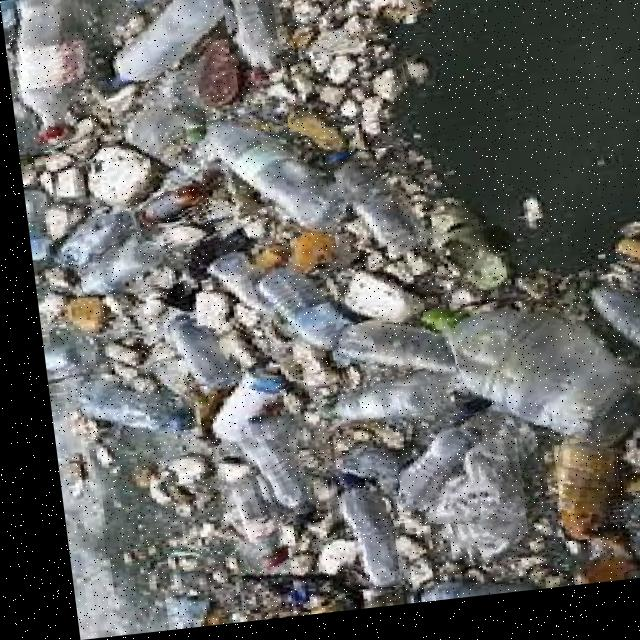plasticbottle: (415, 317, 640, 454), (202, 125, 343, 241), (0, 0, 105, 152), (100, 0, 224, 98), (379, 422, 474, 535), (445, 429, 512, 572), (558, 286, 640, 386), (320, 158, 403, 254), (319, 475, 385, 592), (327, 333, 446, 388), (225, 432, 292, 519), (69, 383, 182, 434), (544, 456, 603, 551), (227, 0, 301, 73), (215, 483, 269, 571), (50, 215, 129, 275), (261, 278, 328, 348), (198, 382, 276, 441), (162, 316, 217, 388), (73, 254, 162, 298), (307, 394, 418, 426), (134, 192, 201, 223)
thermocoal: (269, 0, 411, 137), (134, 449, 214, 499), (81, 147, 140, 209), (331, 280, 396, 331), (273, 544, 334, 595), (333, 0, 432, 30), (208, 211, 270, 255), (131, 348, 177, 403), (310, 35, 362, 77), (397, 60, 443, 96), (180, 293, 226, 329), (333, 58, 369, 91), (371, 81, 404, 112), (294, 2, 325, 27), (627, 534, 640, 585), (237, 329, 254, 367)
